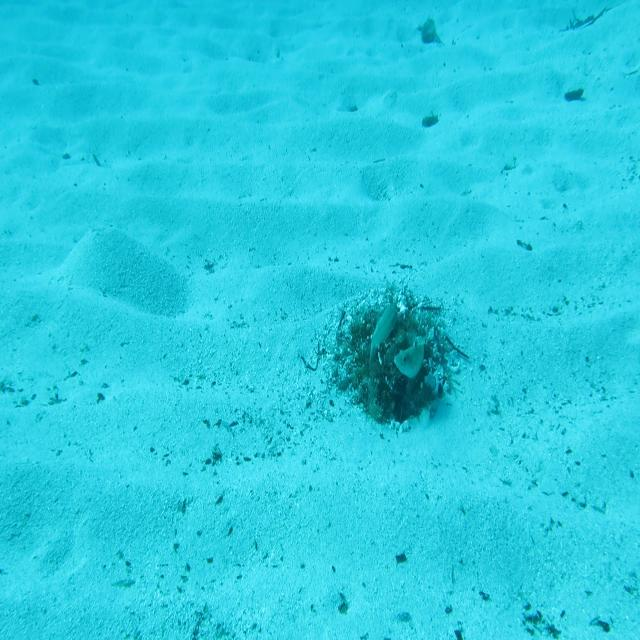BEND: (392, 315, 429, 386)
female: (366, 292, 400, 369)
nest: (335, 279, 460, 440)
